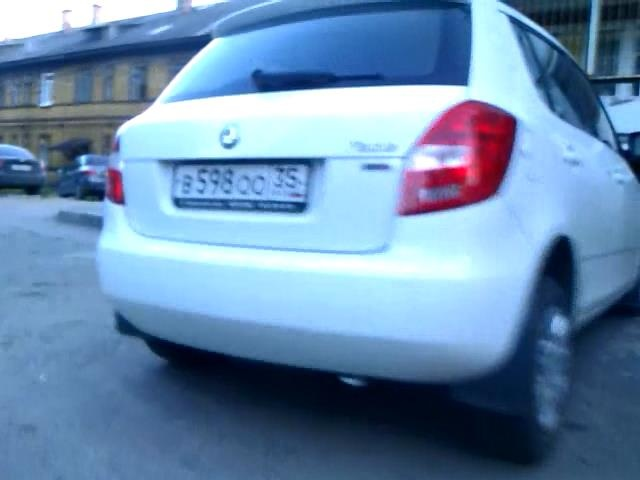car license plate: (171, 161, 312, 214)
